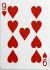nine: (1, 1, 48, 68)
